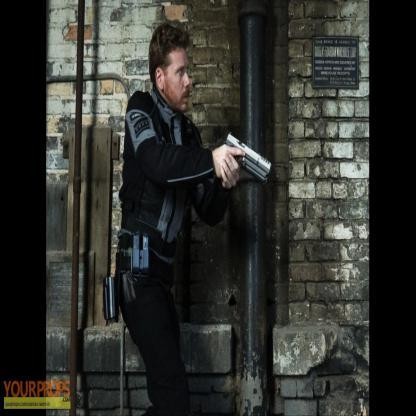Pistol: (212, 127, 274, 217)
